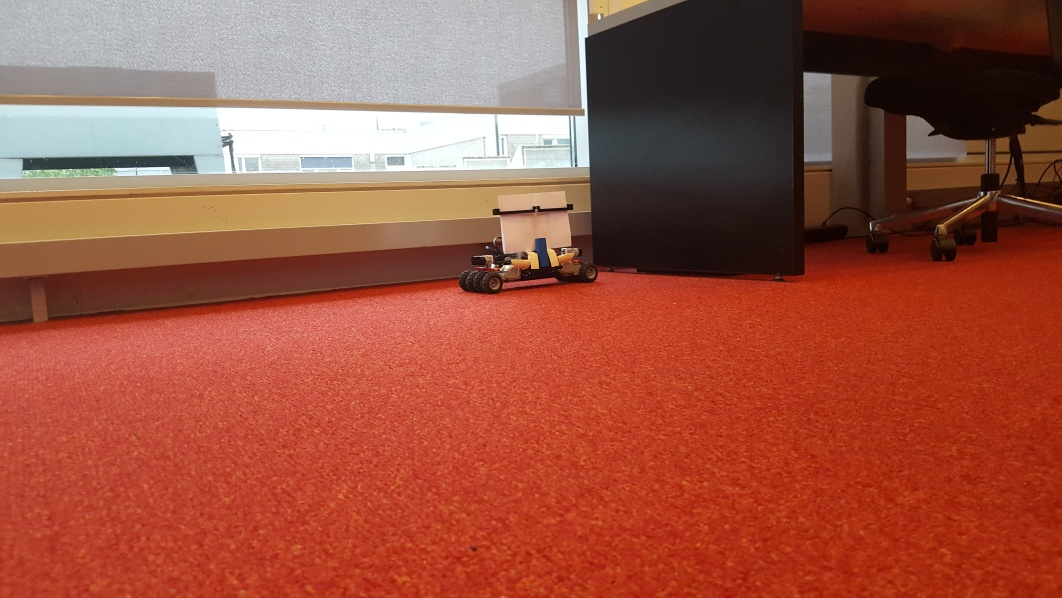car: (455, 189, 599, 293)
